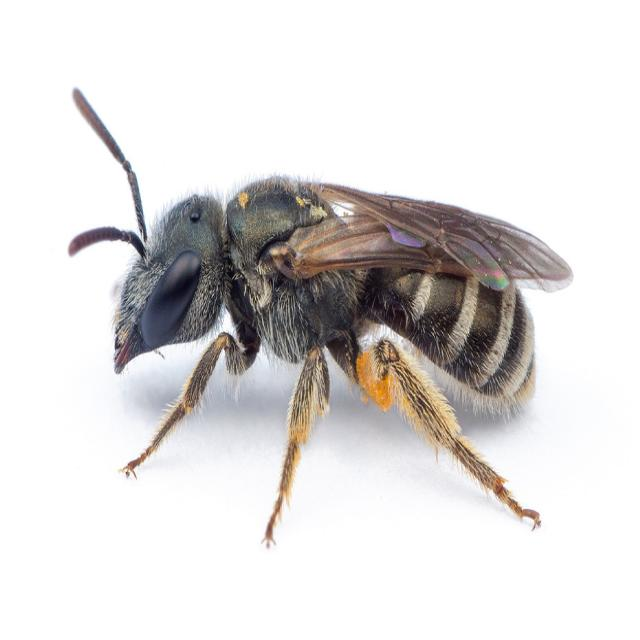Lasioglossum: (56, 66, 575, 554)
